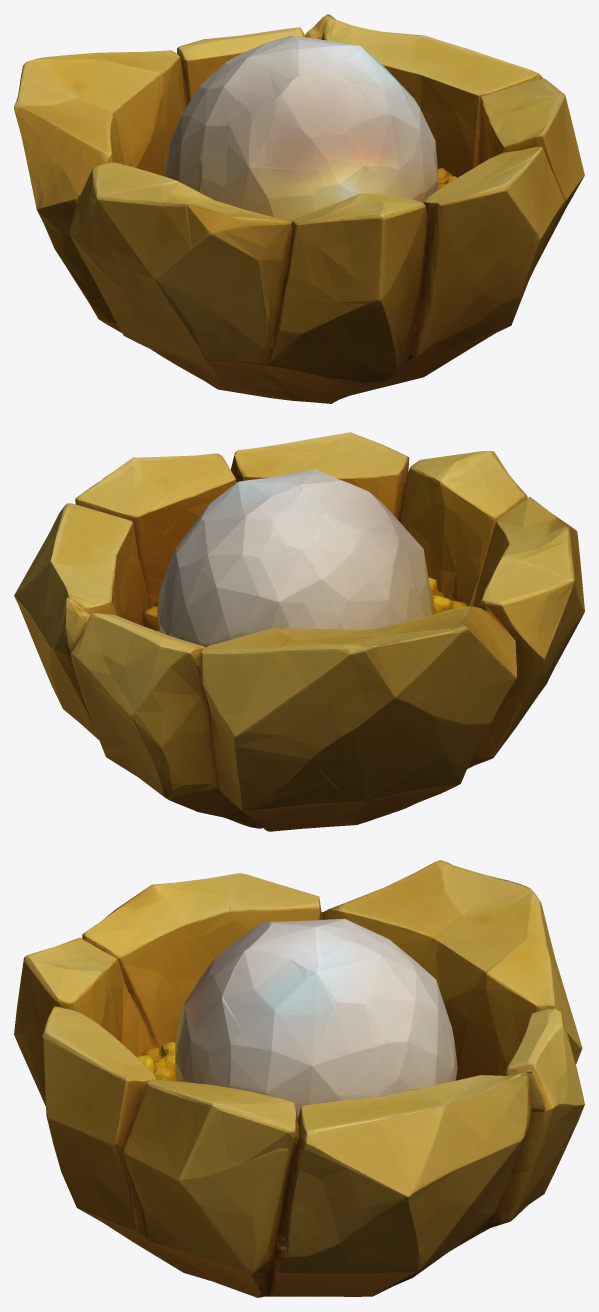
The model's file is desert_pearl.glb.
3 views of the same model, one above another, from view 1: azimuth 30°, elevation 25°; view 2: azimuth 150°, elevation 25°; view 3: azimuth 270°, elevation 25° (orthographic). The views are drawn at different scales.
Visible parts, largest first — view 1: world; view 2: world; view 3: world.
Boxes of the visible parts, <box> form: world: <box>14,14,584,403</box>; world: <box>14,432,584,831</box>; world: <box>14,860,584,1297</box>.
Size of the model in its own units: 0.9842 by 0.6304 by 0.9597.
Materials: 1 (1 with a texture image).
